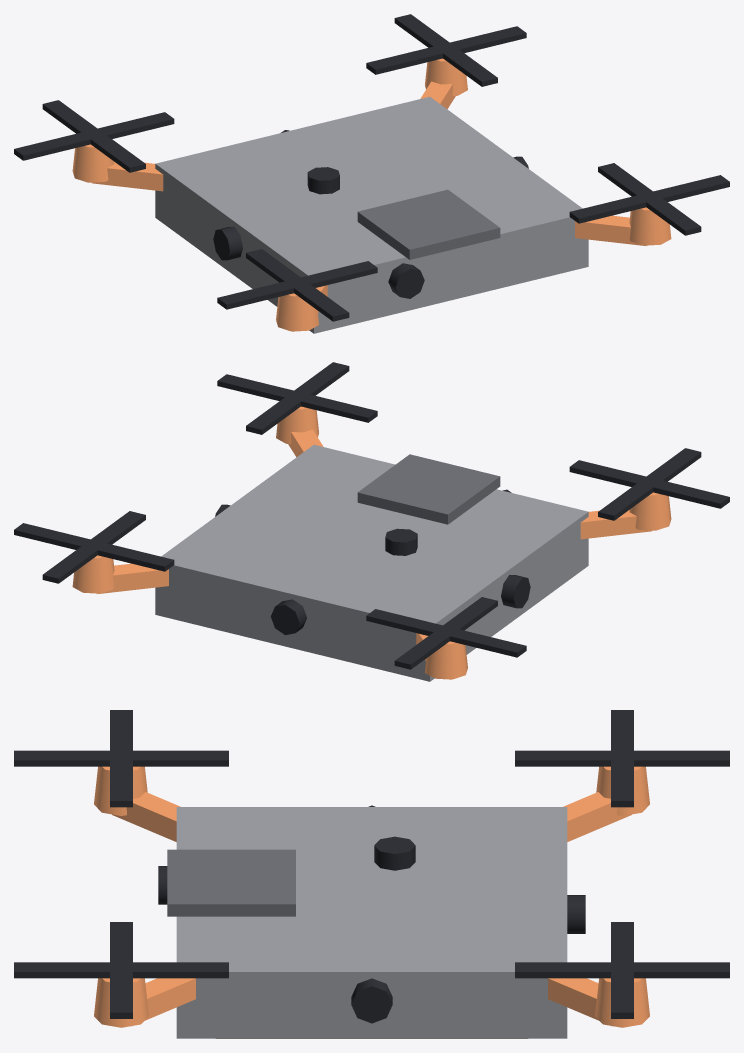
Rendered from build_drone_medium.glb.
3 views of the same model, one above another, from view 1: azimuth 30°, elevation 25°; view 2: azimuth 150°, elevation 25°; view 3: azimuth 270°, elevation 25° (orthographic). The views are drawn at different scales.
Parts seen in each view (by area): view 1: Baked, _MeshInstance3D_705, _MeshInstance3D_709, _MeshInstance3D_701, _MeshInstance3D_713, _MeshInstance3D_712, _MeshInstance3D_708, _MeshInstance3D_704, _MeshInstance3D_700, Dial2, Dial3, Dial4; view 2: Baked, _MeshInstance3D_709, _MeshInstance3D_701, _MeshInstance3D_713, _MeshInstance3D_705, _MeshInstance3D_704, _MeshInstance3D_700, _MeshInstance3D_712, _MeshInstance3D_708, Dial0, Dial3, Dial4; view 3: Baked, _MeshInstance3D_700, _MeshInstance3D_708, _MeshInstance3D_704, _MeshInstance3D_712, _MeshInstance3D_705, _MeshInstance3D_713, _MeshInstance3D_709, _MeshInstance3D_701, Dial1, Dial4, Dial0.
Part boxes in pixels (x1,y1,x2,y2): Baked: [72, 58, 671, 333]; _MeshInstance3D_705: [366, 26, 526, 74]; _MeshInstance3D_709: [217, 261, 377, 309]; _MeshInstance3D_701: [14, 112, 174, 160]; _MeshInstance3D_713: [569, 175, 729, 223]; _MeshInstance3D_712: [598, 163, 701, 235]; _MeshInstance3D_708: [246, 249, 349, 321]; _MeshInstance3D_704: [394, 14, 497, 86]; _MeshInstance3D_700: [42, 100, 145, 172]; Dial2: [388, 263, 424, 298]; Dial3: [213, 226, 242, 260]; Dial4: [307, 167, 339, 194]; Baked: [72, 406, 671, 681]; _MeshInstance3D_709: [569, 460, 729, 508]; _MeshInstance3D_701: [366, 609, 526, 657]; _MeshInstance3D_713: [217, 374, 377, 422]; _MeshInstance3D_705: [14, 523, 174, 571]; _MeshInstance3D_704: [42, 511, 145, 583]; _MeshInstance3D_700: [394, 597, 497, 669]; _MeshInstance3D_712: [246, 362, 349, 434]; _MeshInstance3D_708: [598, 448, 701, 520]; Dial0: [270, 599, 306, 635]; Dial3: [501, 574, 530, 608]; Dial4: [385, 528, 417, 555]; Baked: [94, 766, 649, 1038]; _MeshInstance3D_700: [515, 750, 729, 766]; _MeshInstance3D_708: [14, 750, 228, 766]; _MeshInstance3D_704: [515, 962, 729, 978]; _MeshInstance3D_712: [14, 962, 228, 978]; _MeshInstance3D_705: [611, 922, 633, 1018]; _MeshInstance3D_713: [110, 922, 132, 1018]; _MeshInstance3D_709: [110, 710, 132, 807]; _MeshInstance3D_701: [611, 710, 633, 807]; Dial1: [351, 978, 392, 1023]; Dial4: [374, 836, 415, 870]; Dial0: [567, 895, 585, 933].
Size of the model in its own units: 1.56 by 0.2675 by 1.56.
